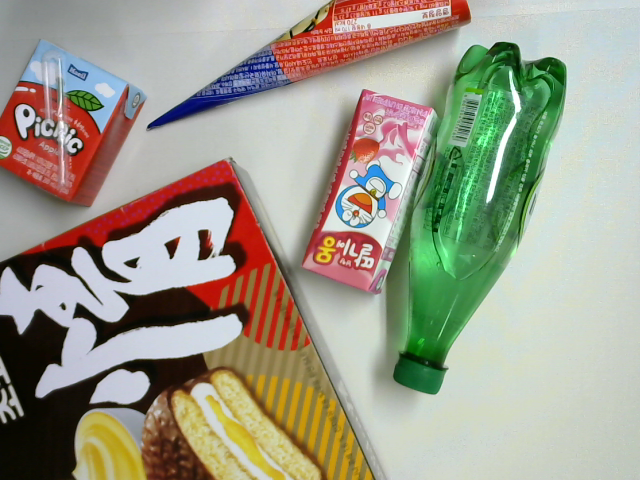Choco_Pie_Banana: (1, 141, 405, 480)
Picnic_Apple: (1, 36, 153, 215)
Strawberry_E_Mong: (296, 87, 445, 301)
Treviraim_500ml: (379, 32, 574, 401)
World_Cone_Banila: (140, 1, 492, 139)
